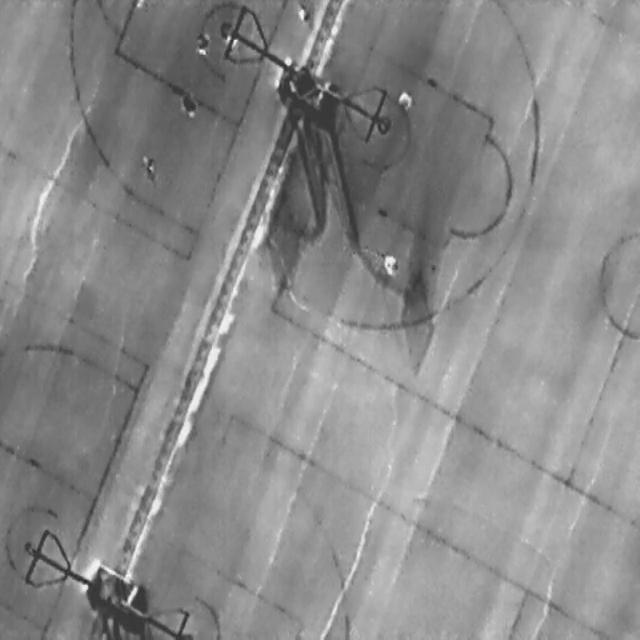Person: (142, 152, 156, 182), (181, 90, 195, 118), (196, 29, 209, 55), (399, 88, 412, 112), (382, 251, 395, 274), (298, 2, 308, 24)
